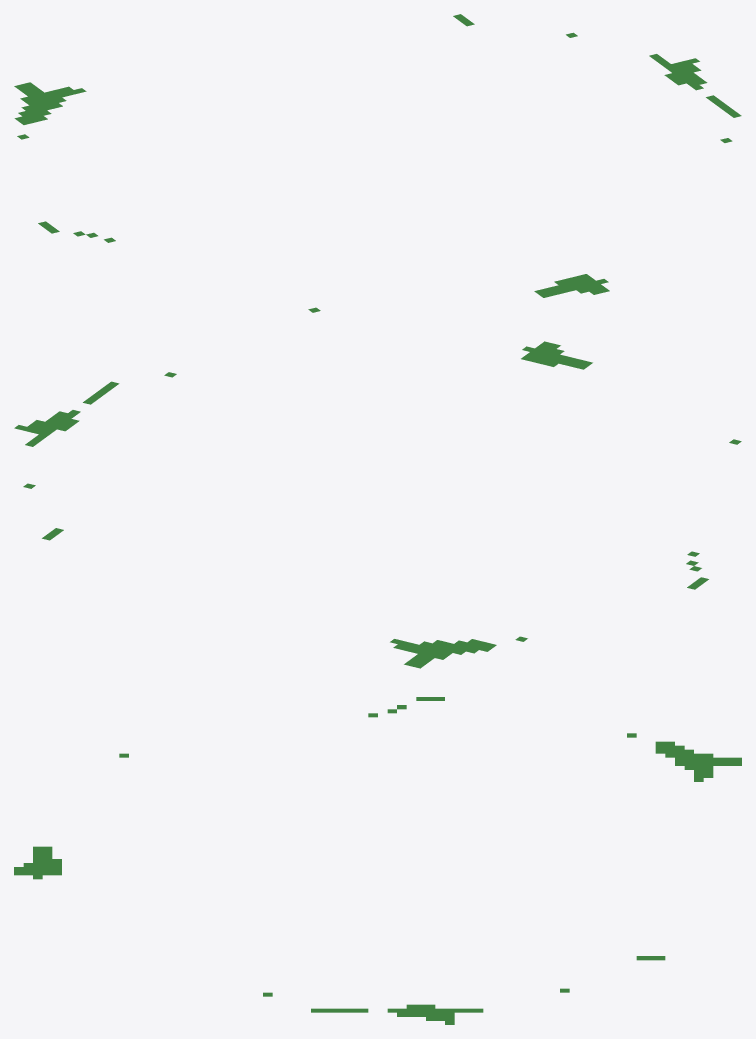
The model's file is Isl-rocky1-TreesArea.fbx.
The picture shows the model from 3 angles, top to bottom: view 1: azimuth 30°, elevation 25°; view 2: azimuth 150°, elevation 25°; view 3: azimuth 270°, elevation 25°; orthographic projection. The views are drawn at different scales.
Parts seen in each view (by area): view 1: Isl-rocky1-TreesArea; view 2: Isl-rocky1-TreesArea; view 3: Isl-rocky1-TreesArea.
Part boxes in pixels (x1,y1,x2,y2): Isl-rocky1-TreesArea: [14, 14, 741, 312]; Isl-rocky1-TreesArea: [14, 341, 741, 668]; Isl-rocky1-TreesArea: [14, 697, 741, 1024].
Size of the model in its own units: 81 by 0 by 76.
